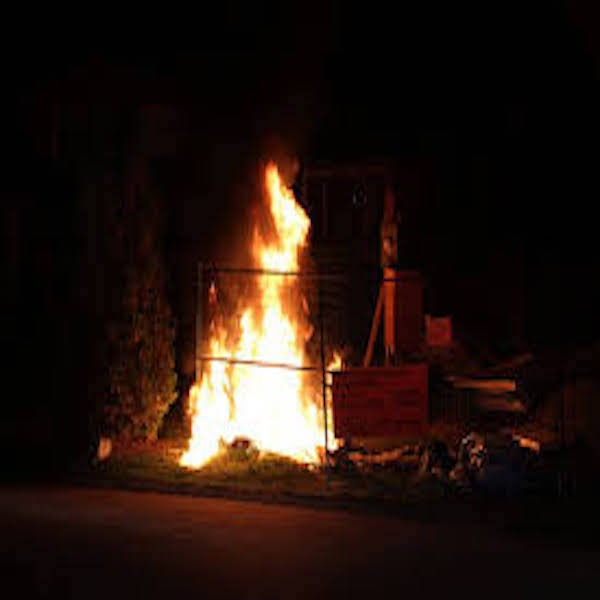fire: (236, 155, 314, 453), (193, 330, 333, 469)
